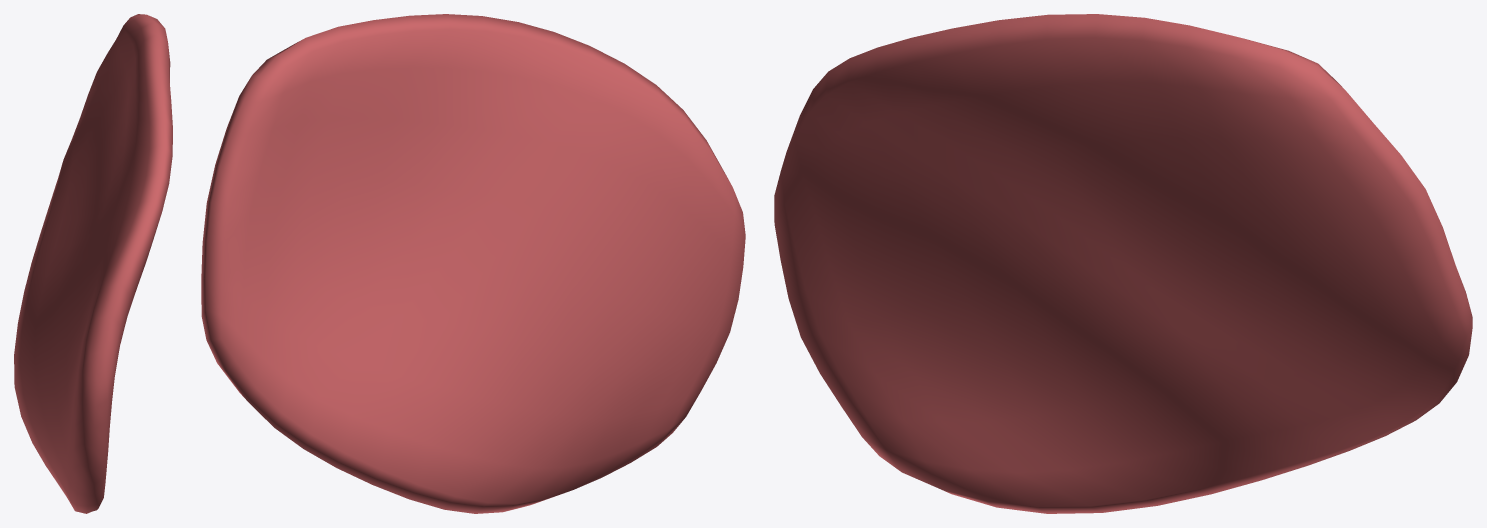
3 renders of one model, left to right at view 1: azimuth 30°, elevation 25°; view 2: azimuth 150°, elevation 25°; view 3: azimuth 270°, elevation 25°, orthographic. The views are drawn at different scales.
Visible parts, largest first — view 1: 右侧胫骨前肌腱下囊; view 2: 右侧胫骨前肌腱下囊; view 3: 右侧胫骨前肌腱下囊.
Boxes of the visible parts, x1=… form: 右侧胫骨前肌腱下囊: x1=14, y1=14, x2=172, y2=513; 右侧胫骨前肌腱下囊: x1=201, y1=14, x2=745, y2=513; 右侧胫骨前肌腱下囊: x1=774, y1=14, x2=1472, y2=513.
Bounding box in the file's own units: 0.0111 × 0.017 × 0.0183.
